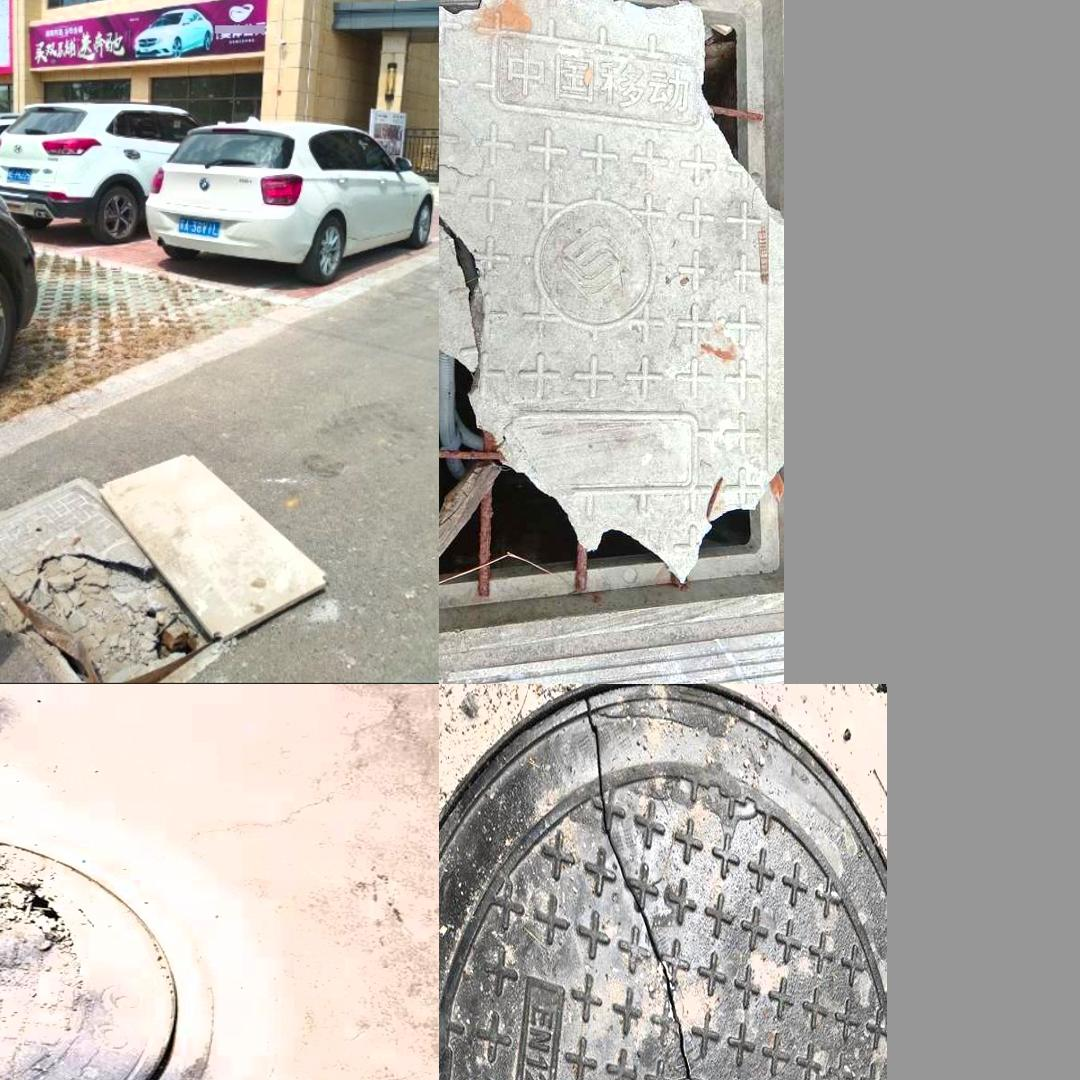broke: (440, 0, 784, 640), (444, 690, 878, 1080), (0, 796, 314, 1080), (0, 471, 339, 684)
